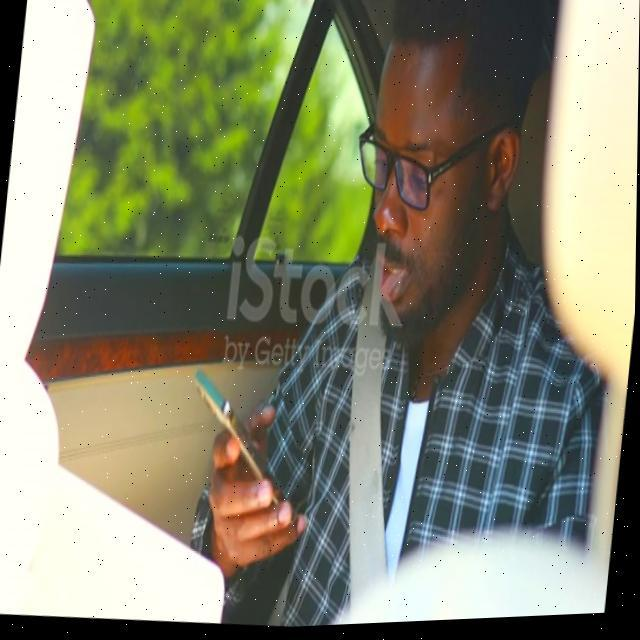PhoneCall: (181, 361, 313, 534)
